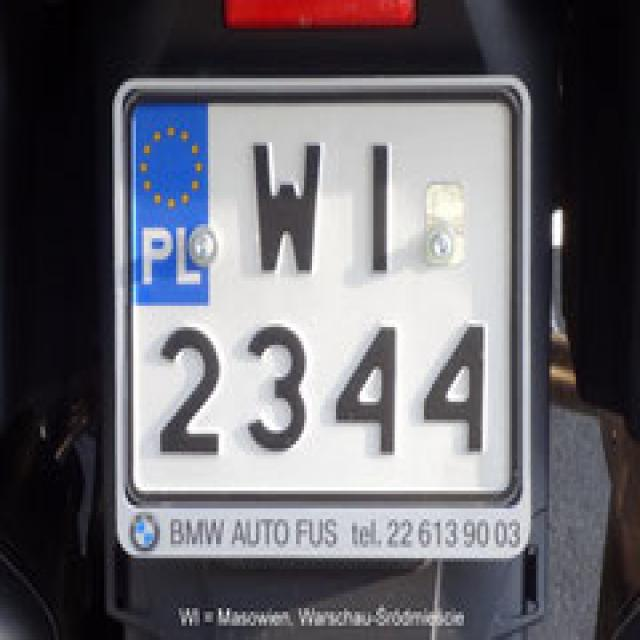pl_license_plate: (128, 100, 509, 490)
